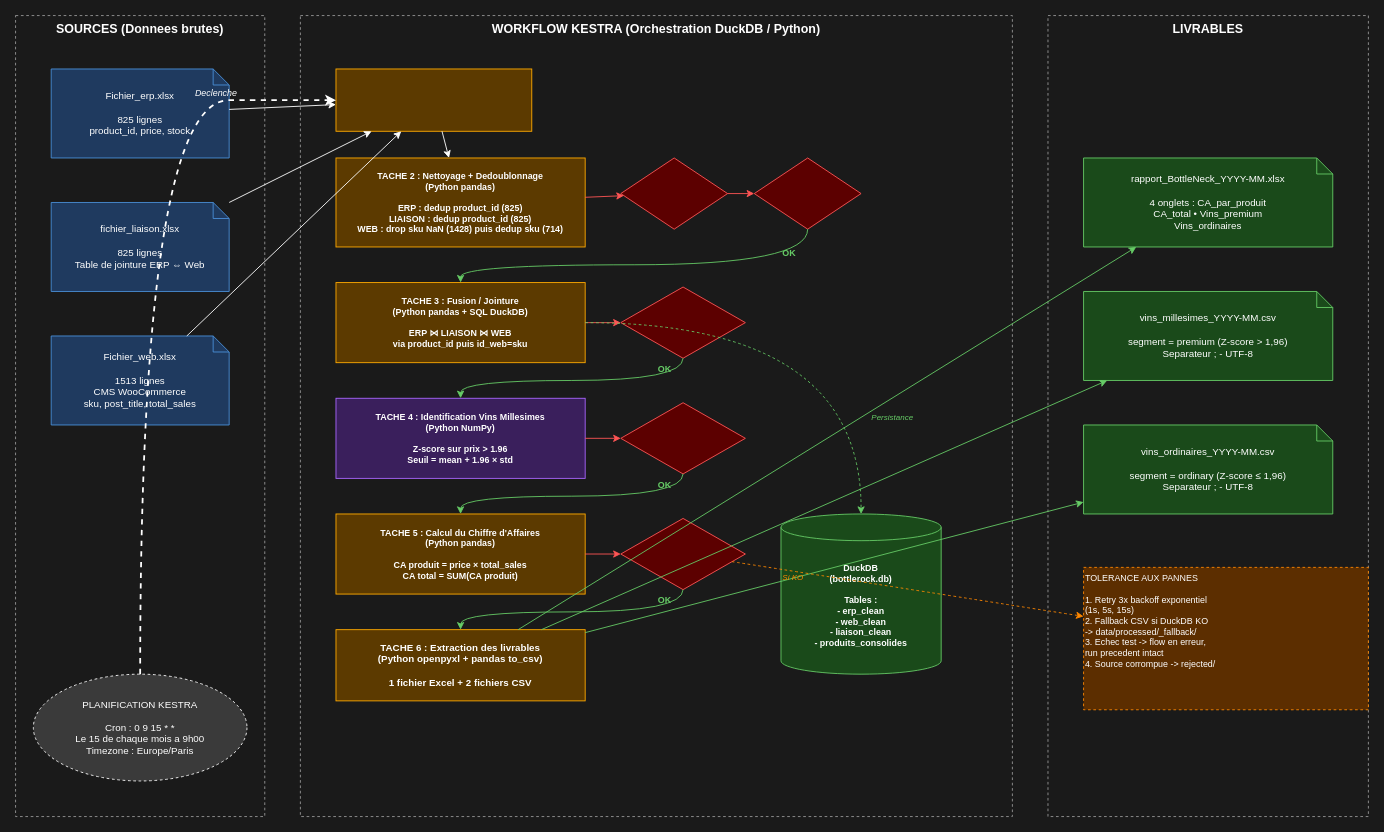
Some shapes in this 1384 by 832 pixel diagram are drawn without their labels. The shapes that lost their labels are listed below. From the top down, each one's centre as x and y in pixels, then its label:
At point 433,99: "TACHE 1 : Extraction (Python pandas) Lecture des 3 Excel".
At point 674,193: "TEST 1 Unicite PK product_id / sku".
At point 807,193: "TEST 2 Aucun NULL sur price / sku / id".
At point 682,322: "TEST 3 Jointure : N > 0 sku unique COUNT ≤ min(sources)".
At point 682,438: "TEST 5 Z-score : 2 segments non vides + prix moyen P > O".
At point 682,554: "TEST 4 CA > 0 et CA_premium + CA_ord. = CA_total".
